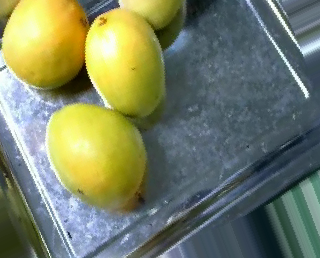Mango: (45, 101, 156, 210), (81, 9, 176, 119), (0, 0, 92, 96), (115, 0, 184, 29)
